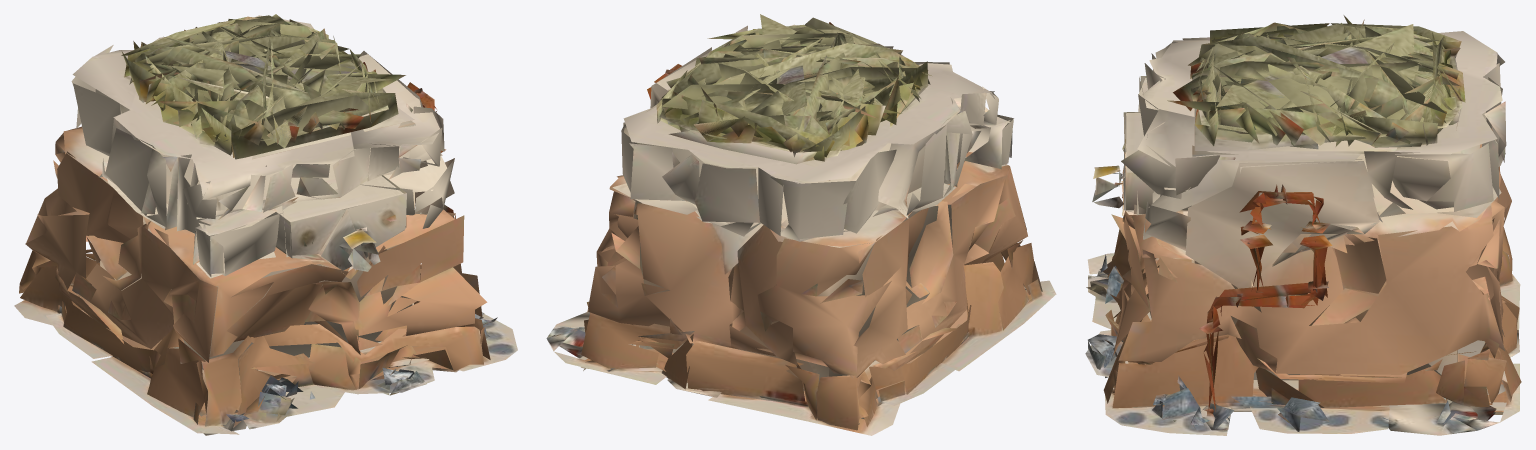
The model's file is sea-cliff.lod1.glb.
3 views of the same model, side by side, from view 1: azimuth 30°, elevation 25°; view 2: azimuth 150°, elevation 25°; view 3: azimuth 270°, elevation 25° (orthographic). The views are drawn at different scales.
Visible parts, largest first — view 1: sea-cliff_lod1; view 2: sea-cliff_lod1; view 3: sea-cliff_lod1.
Boxes of the visible parts, bbox=[...] form: sea-cliff_lod1: bbox=[14, 14, 517, 435]; sea-cliff_lod1: bbox=[546, 14, 1056, 435]; sea-cliff_lod1: bbox=[1085, 15, 1521, 435].
Bounding box in the file's own units: 8.04 × 6.15 × 8.08.
Materials: 1 (1 with a texture image).
